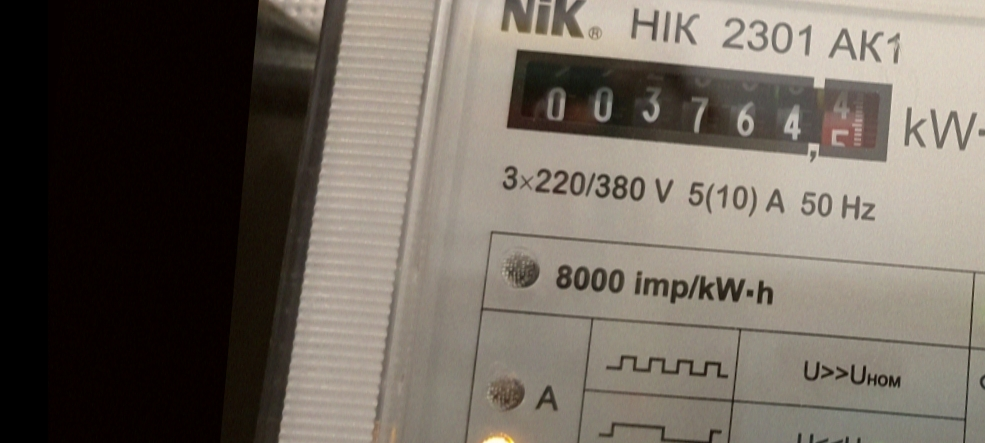0: (542, 83, 569, 122), (590, 83, 615, 124)
3: (638, 83, 664, 124)
4: (781, 101, 804, 142), (830, 87, 854, 121)
5: (827, 125, 851, 149)
6: (734, 98, 757, 138)
7: (685, 91, 711, 135)
screen: (491, 32, 909, 177)
